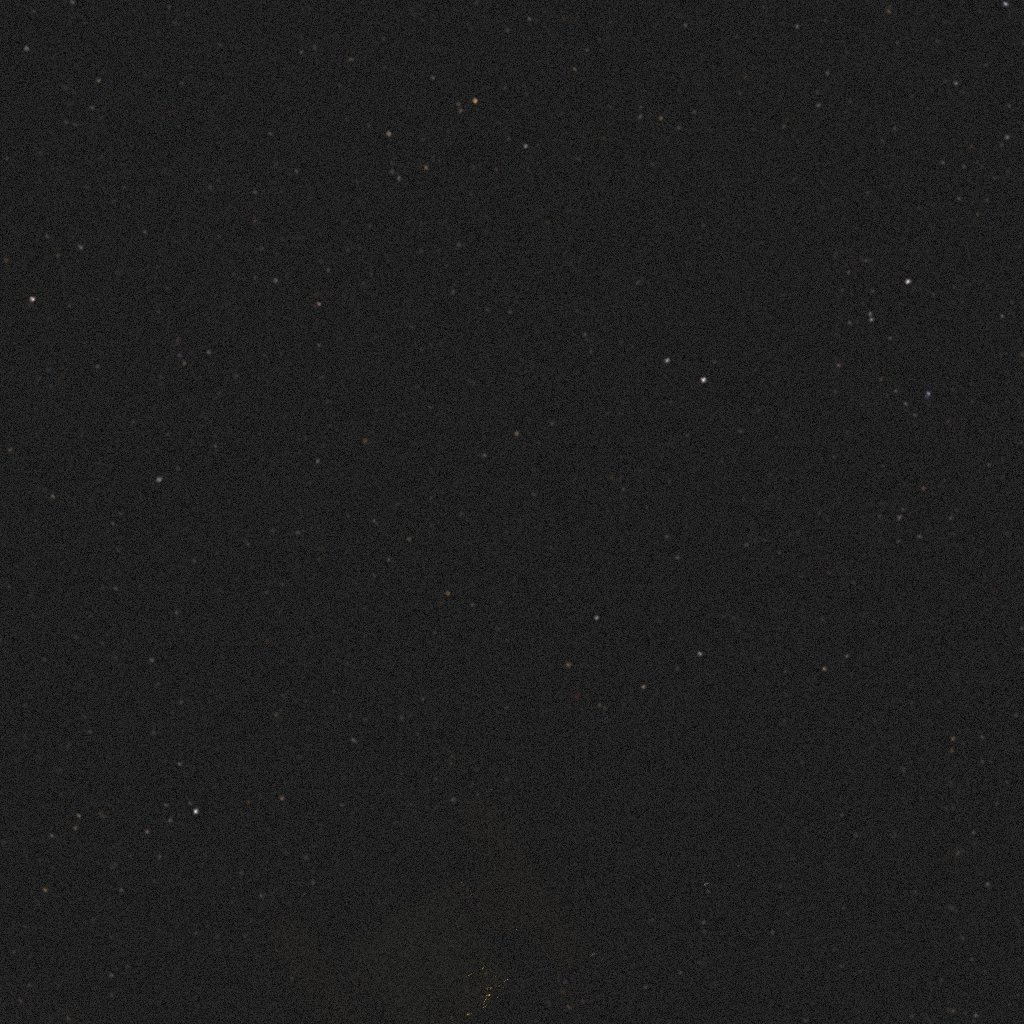soho: (113, 652, 817, 1024)
